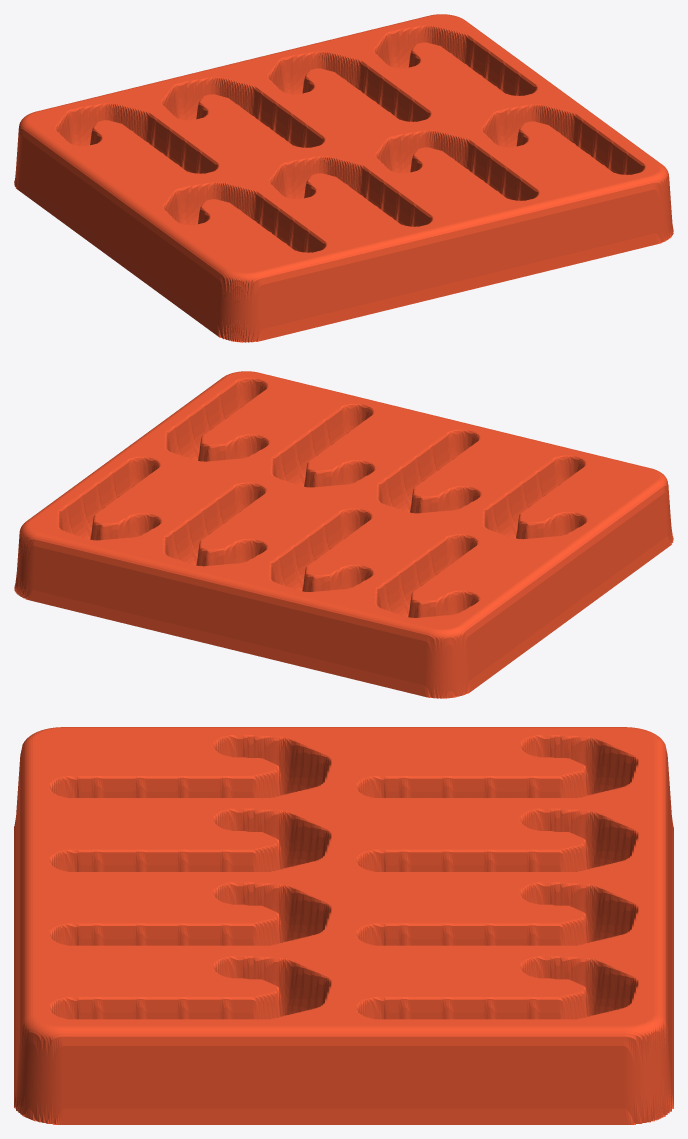
File: mold.glb
3 renders of one model, top to bottom at view 1: azimuth 30°, elevation 25°; view 2: azimuth 150°, elevation 25°; view 3: azimuth 270°, elevation 25°, orthographic. The views are drawn at different scales.
Visible parts, largest first — view 1: geometry_0; view 2: geometry_0; view 3: geometry_0.
Part boxes in pixels (x1,y1,x2,y2): geometry_0: [14, 14, 673, 342]; geometry_0: [14, 371, 673, 698]; geometry_0: [14, 727, 673, 1124].
Bounding box in the file's own units: 0.1377 × 0.0185 × 0.1222.
